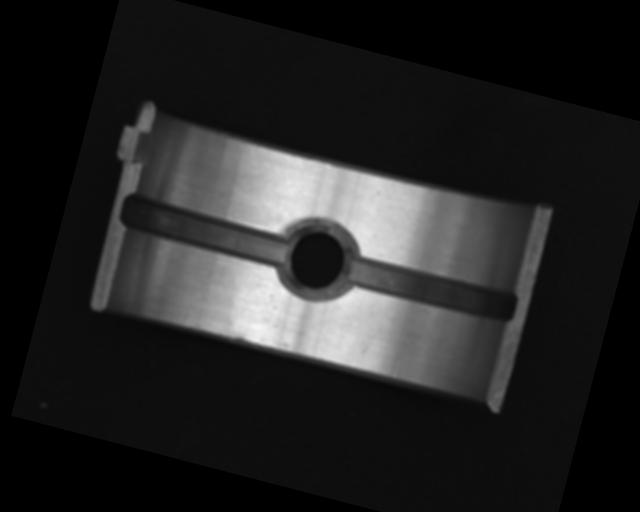gap: (338, 247, 521, 330), (117, 190, 293, 271)
hole: (272, 213, 363, 306)
nick: (390, 358, 403, 379)
